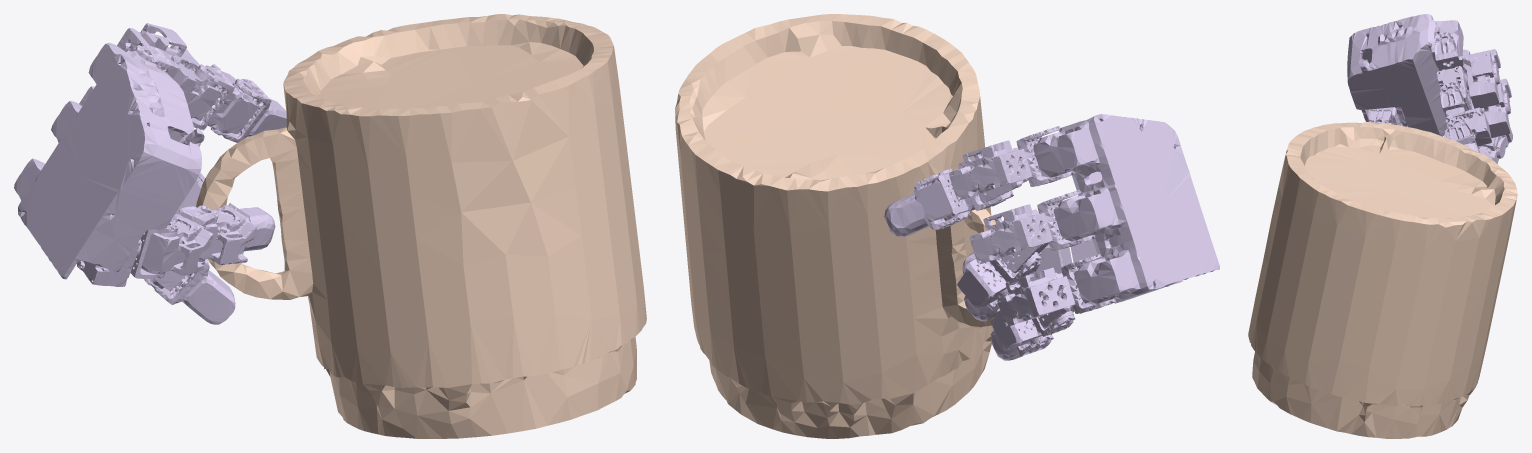
3 views of the same model, side by side, from view 1: azimuth 30°, elevation 25°; view 2: azimuth 150°, elevation 25°; view 3: azimuth 270°, elevation 25° (orthographic). The views are drawn at different scales.
Visible parts, largest first — view 1: world, LEAP_hand; view 2: world, LEAP_hand; view 3: world, LEAP_hand.
Boxes of the visible parts, bbox=[...] form: world: bbox=[196, 14, 646, 438]; LEAP_hand: bbox=[14, 23, 286, 324]; world: bbox=[675, 14, 997, 438]; LEAP_hand: bbox=[884, 114, 1219, 360]; world: bbox=[1248, 121, 1517, 438]; LEAP_hand: bbox=[1347, 14, 1512, 163].
Size of the model in its own units: 0.3989 by 0.2778 by 0.2361.
